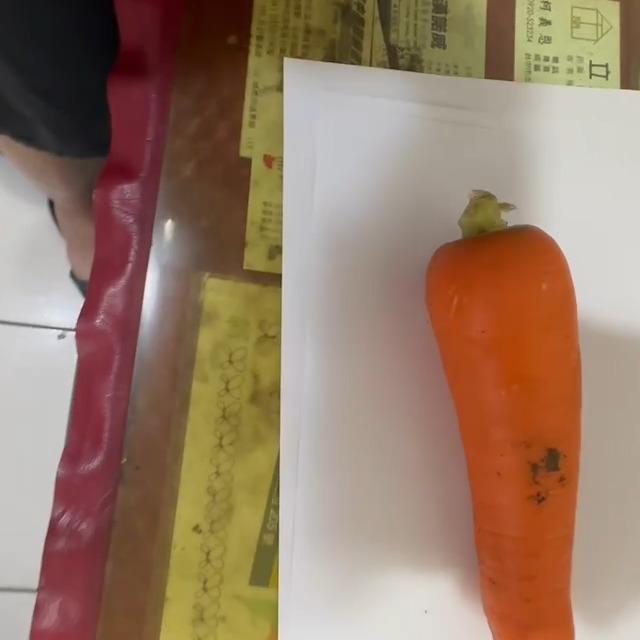carrot: (424, 188, 586, 640)
